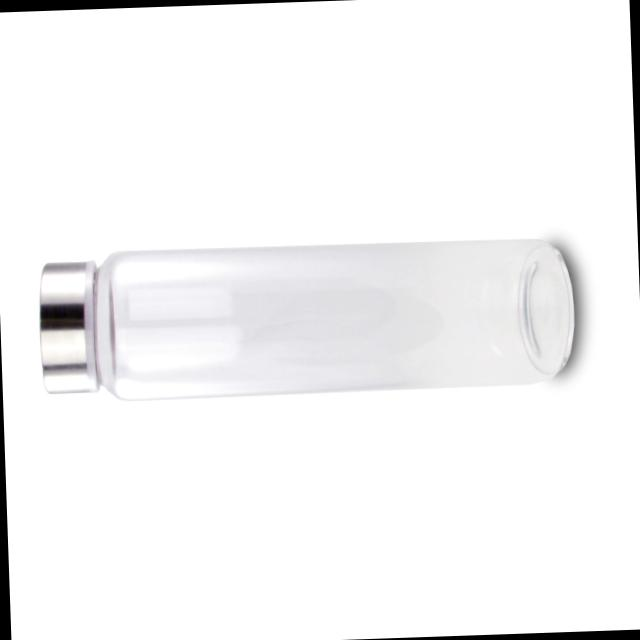glass: (15, 215, 604, 414)
